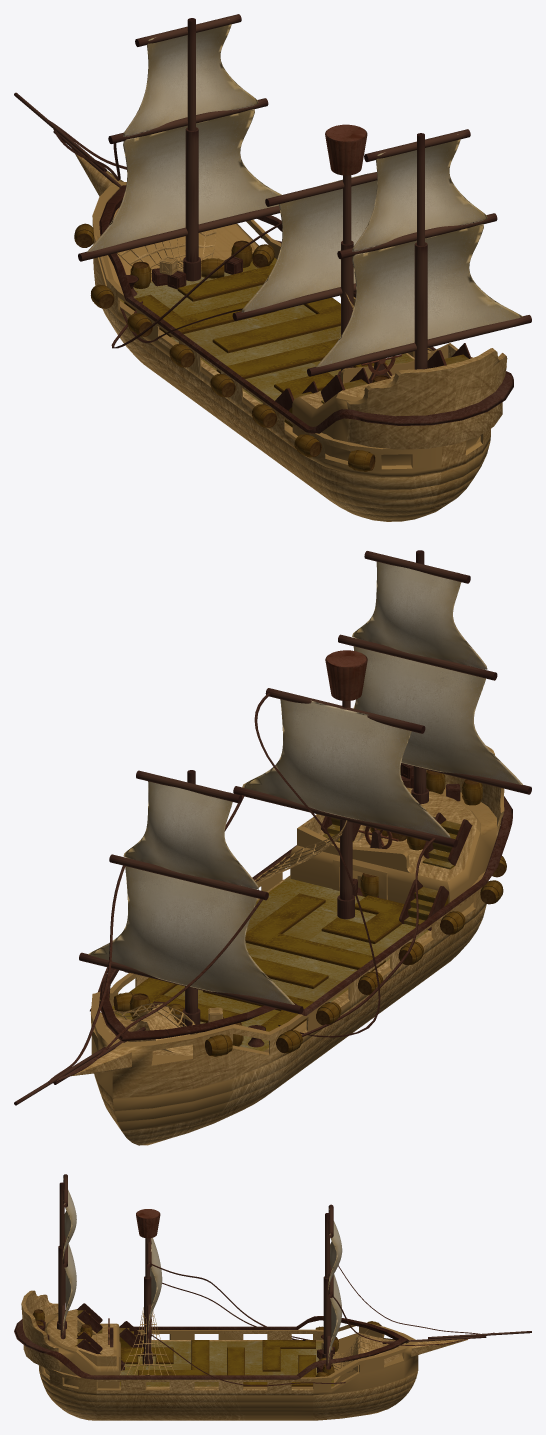
File: ship_newVersion2.fbx
3 views of the same model, one above another, from view 1: azimuth 30°, elevation 25°; view 2: azimuth 150°, elevation 25°; view 3: azimuth 270°, elevation 25° (orthographic). The views are drawn at different scales.
Visible parts, largest first — view 1: polySurface1, polySurface9, pPlane11, pPlane8, pPlane9, pPlane10, pPlane12, polySurface7, pCylinder2, pCylinder48, pCylinder20, pCylinder47 (+13 smaller); view 2: polySurface1, polySurface9, pPlane9, pPlane8, pPlane11, pPlane12, pPlane10, polySurface7, pCylinder20, pCylinder27, pCylinder23, pCylinder49 (+12 smaller); view 3: polySurface1, polySurface9, polySurface7, pPlane6, pPlane9, pCylinder20, pPlane11, pCylinder2, pCylinder21, pPlane8, pCylinder47, pPlane12 (+8 smaller).
Part boxes in pixels (x1,y1,x2,y2): polySurface1: (75, 154, 507, 521); polySurface9: (120, 257, 413, 404); pPlane11: (316, 224, 522, 367); pPlane8: (87, 109, 281, 252); pPlane9: (241, 172, 377, 312); pPlane10: (123, 19, 258, 136); pPlane12: (352, 134, 487, 251); polySurface7: (99, 185, 513, 433); pCylinder2: (183, 127, 200, 281); pCylinder48: (307, 315, 531, 376); pCylinder20: (325, 124, 367, 175); pCylinder47: (414, 242, 427, 369); polySurface1: (71, 746, 504, 1145); polySurface9: (112, 878, 428, 1051); pPlane9: (242, 699, 450, 838); pPlane8: (88, 866, 294, 1004); pPlane11: (353, 646, 522, 784); pPlane12: (352, 561, 487, 669); pPlane10: (123, 781, 258, 889); polySurface7: (99, 796, 512, 1041); pCylinder20: (325, 650, 367, 700); pCylinder27: (233, 786, 457, 847); pCylinder23: (109, 854, 268, 900); pCylinder49: (338, 634, 497, 680); polySurface1: (21, 1290, 467, 1420); polySurface9: (120, 1340, 333, 1386); polySurface7: (14, 1316, 408, 1379); pPlane6: (120, 1307, 175, 1375); pPlane9: (148, 1237, 162, 1331); pCylinder20: (136, 1209, 160, 1238); pPlane11: (62, 1243, 76, 1332); pCylinder2: (322, 1276, 332, 1363); pCylinder21: (142, 1276, 152, 1365); pPlane8: (328, 1274, 342, 1362); pCylinder47: (57, 1246, 66, 1329); pPlane12: (62, 1178, 76, 1259).
Size of the model in its own units: 295 by 442 by 897.
